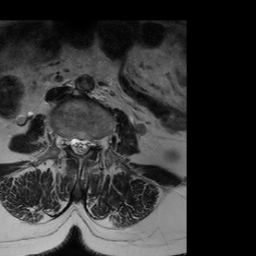CCS_normal: (75, 128, 83, 161)
LFS_normal: (90, 130, 98, 156)
LLS_normal: (83, 131, 90, 157)
RFS_normal: (61, 128, 69, 154)
RLS_normal: (69, 128, 75, 158)
